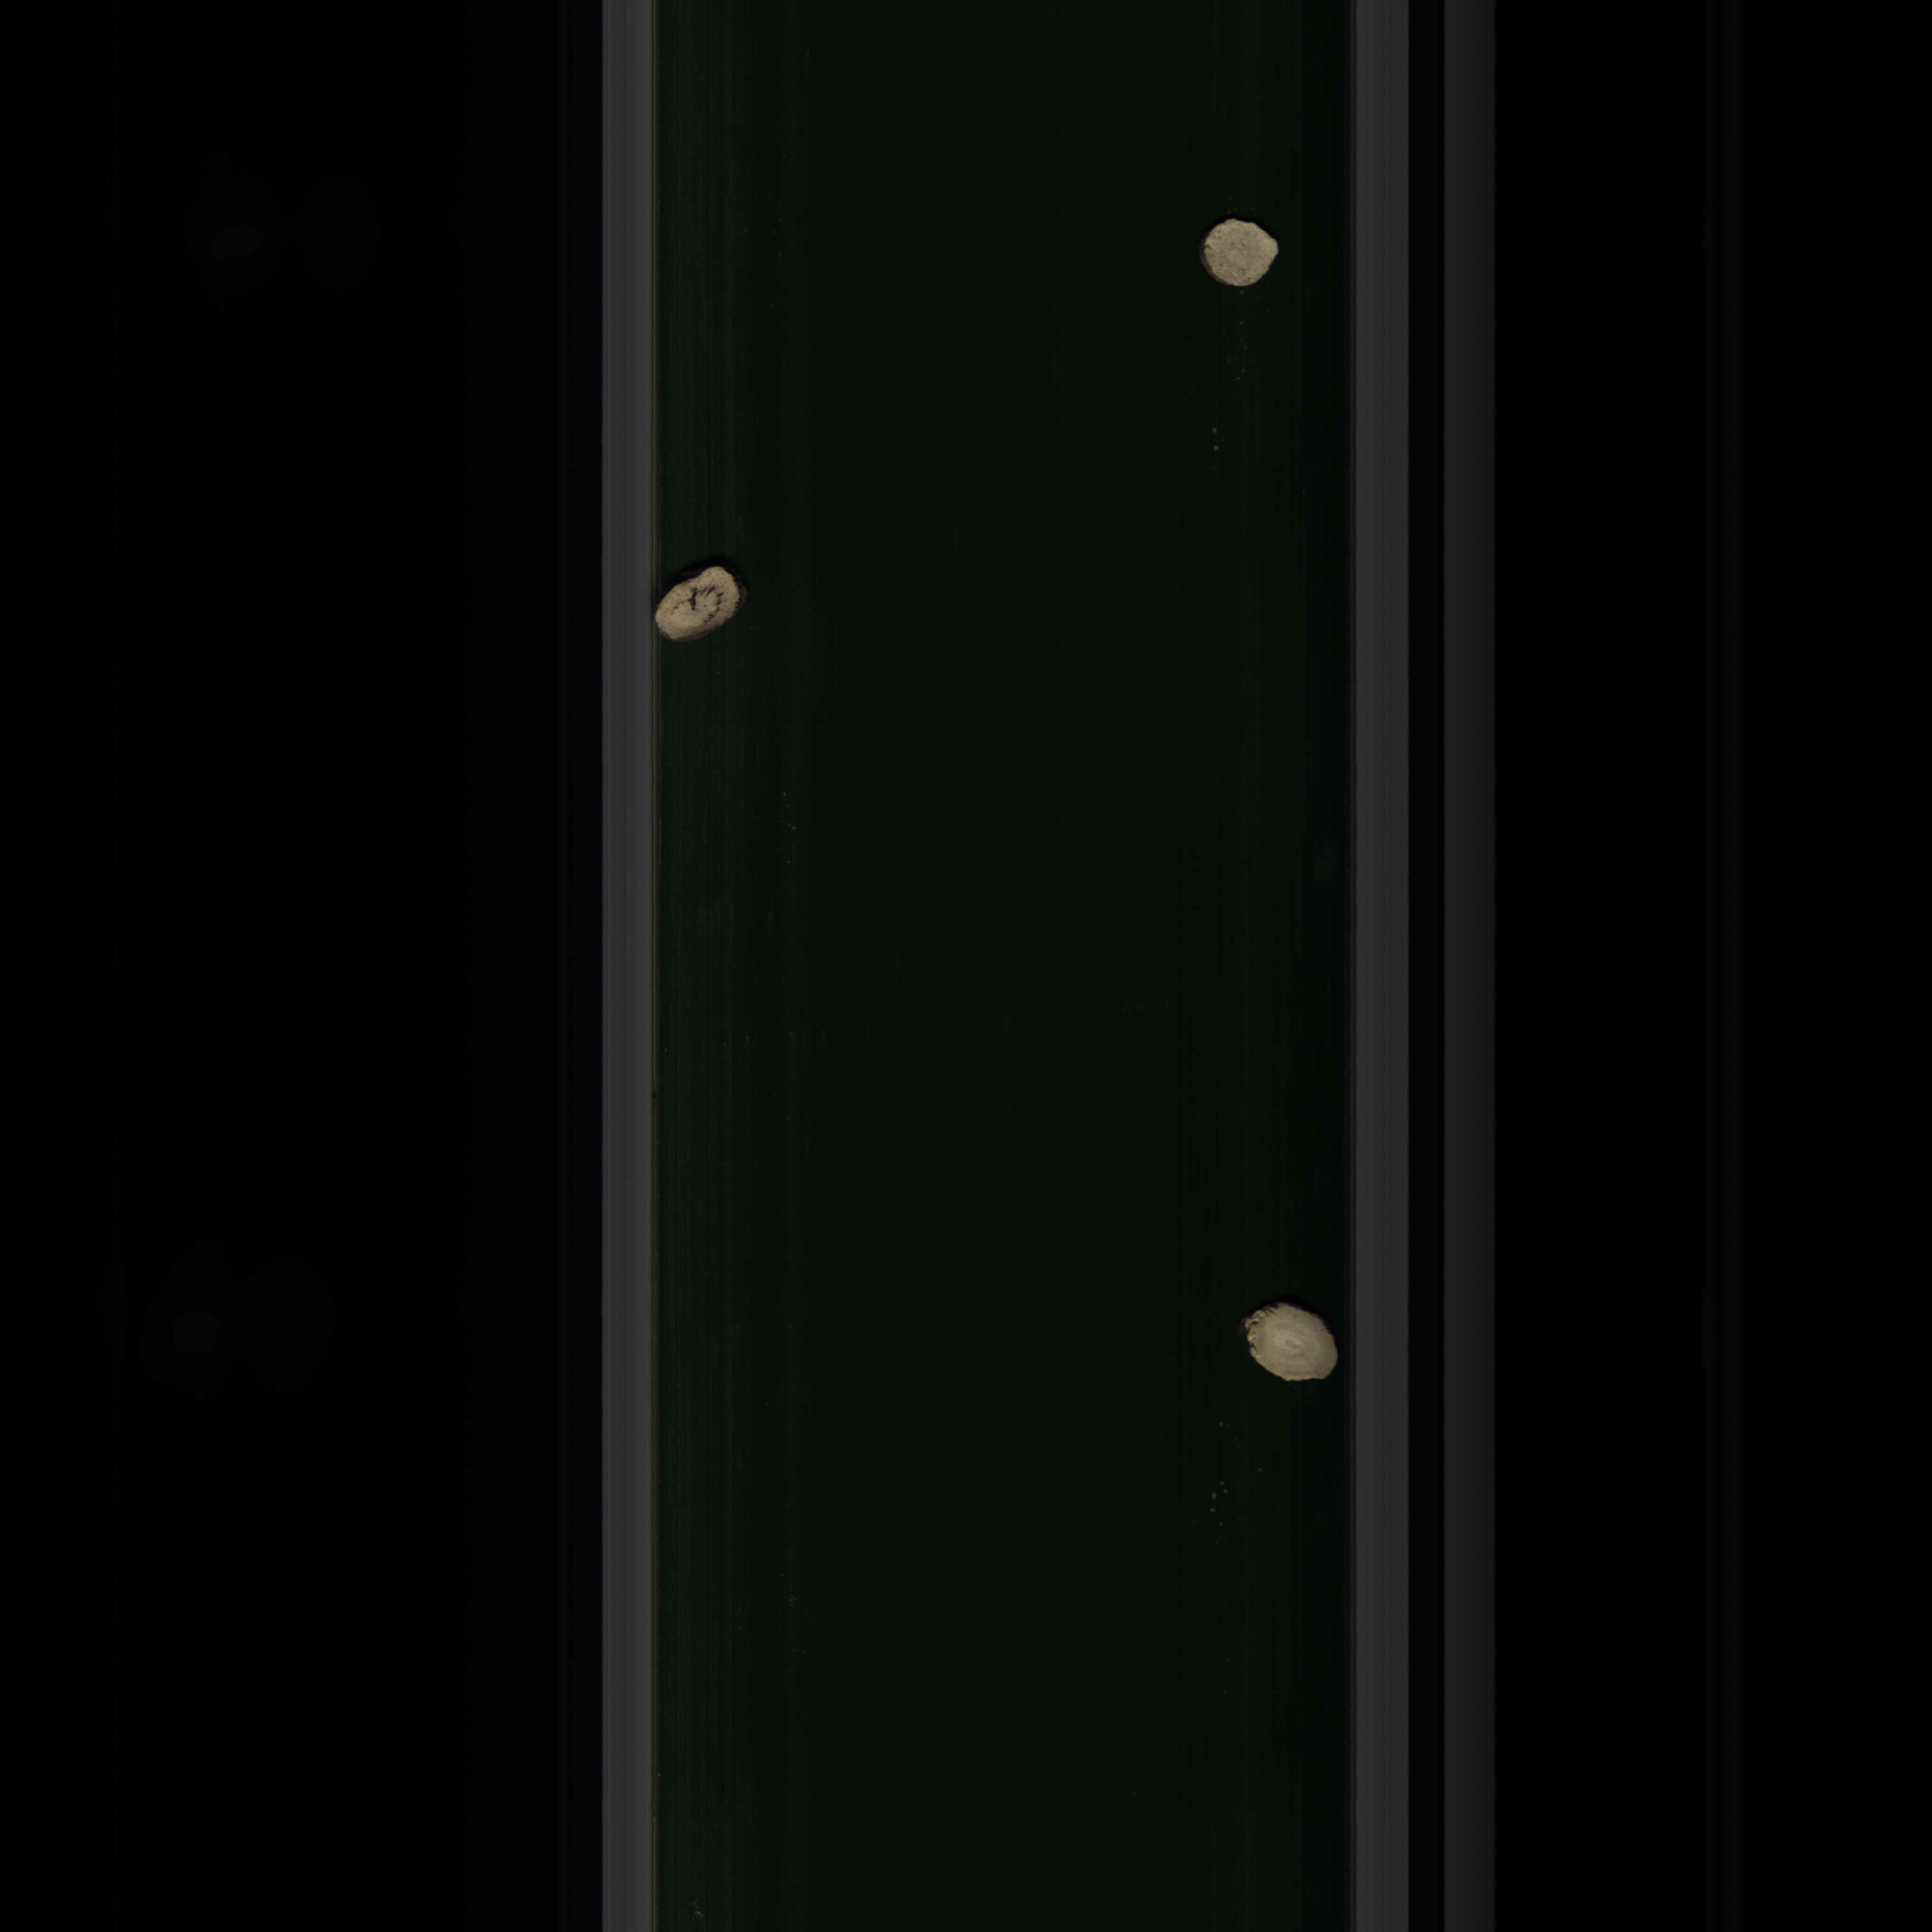hole: (656, 554, 752, 649)
